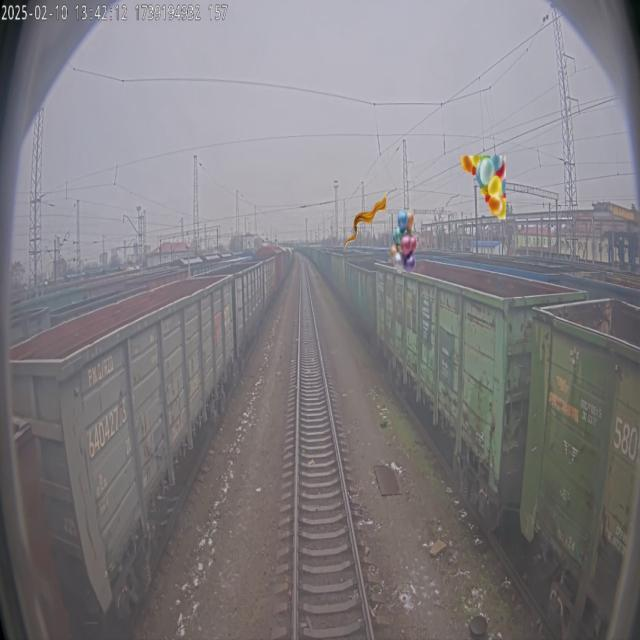balloon: (460, 156, 506, 220), (390, 209, 417, 273)
floating object: (343, 189, 387, 253)
